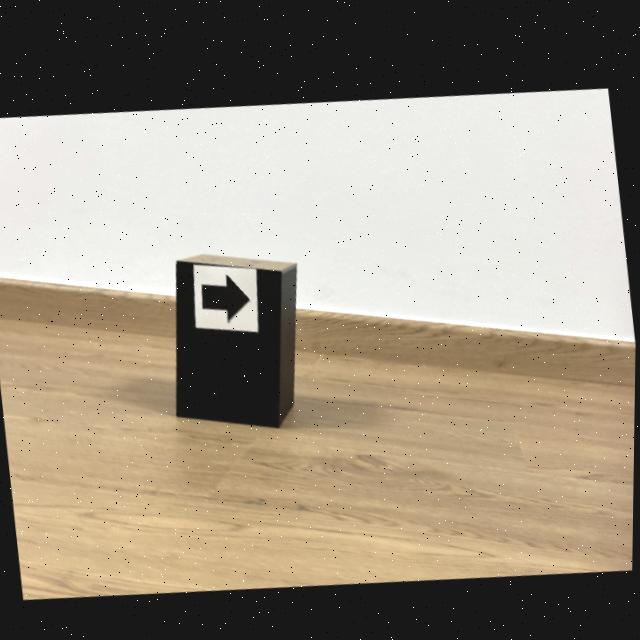RIGHT: (202, 271, 250, 317)
